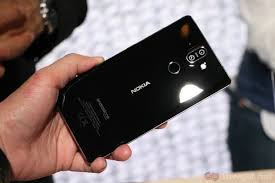nokia: (49, 9, 229, 166)
